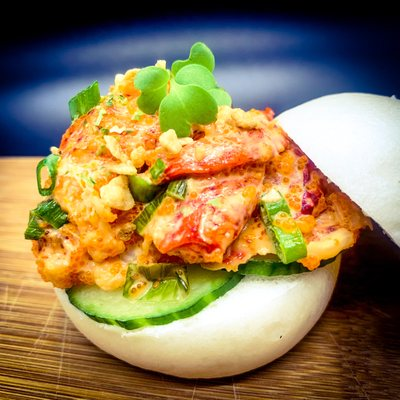sandwich: (26, 59, 385, 378)
